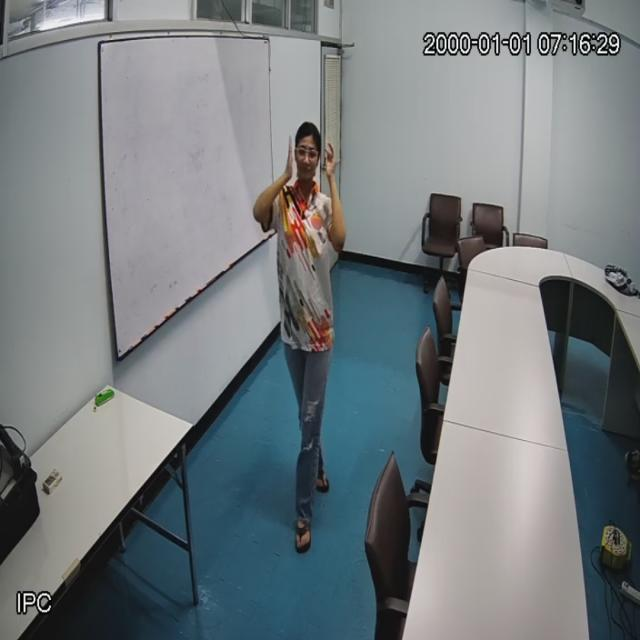normal: (262, 122, 346, 544)
